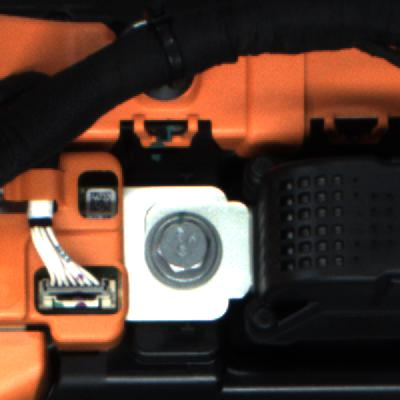nut_b: (137, 209, 253, 295)
